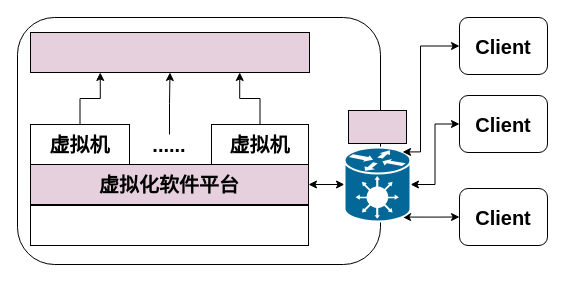
Image size: 565x282. Some labels were removed from this diagram. The centre of each missing label's shape, as x and y in pixels:
"交付" goes at (377,127).
"物理机" goes at (169,225).
"管理平台" goes at (170,52).
